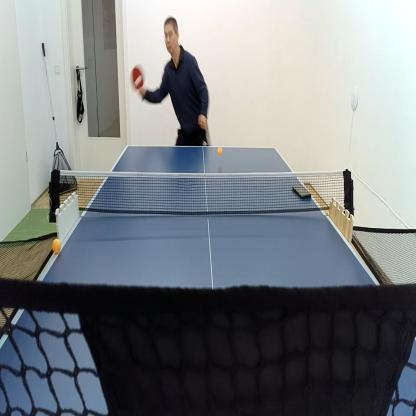Ball: (51, 238, 60, 254), (136, 75, 142, 87), (218, 146, 222, 156)
